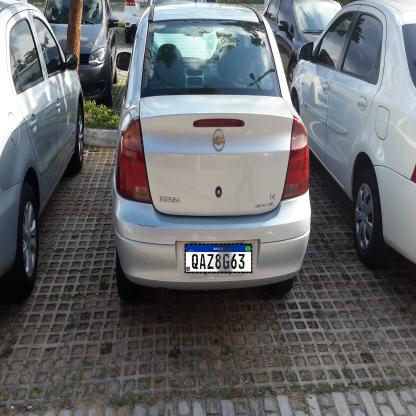PlacaM: (184, 244, 252, 273)
